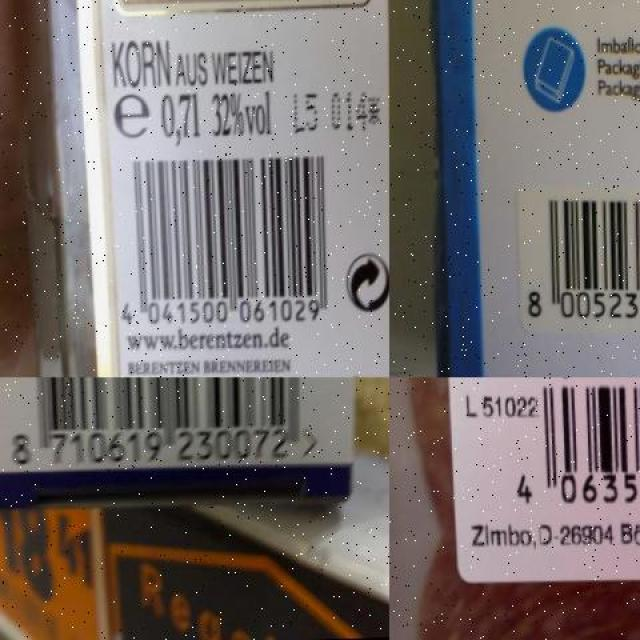Barcode: (107, 144, 341, 332), (0, 377, 339, 468), (510, 177, 640, 345), (505, 377, 640, 527)
